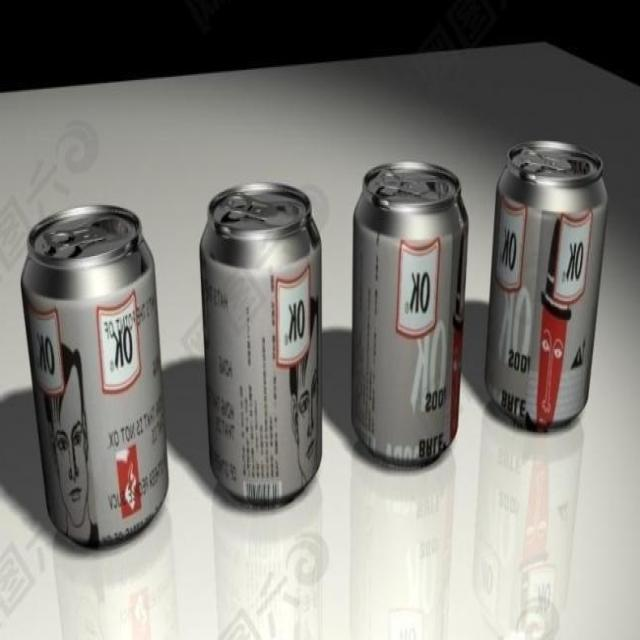metal: (21, 205, 168, 546), (200, 183, 321, 503), (352, 161, 468, 466), (486, 140, 608, 429)
